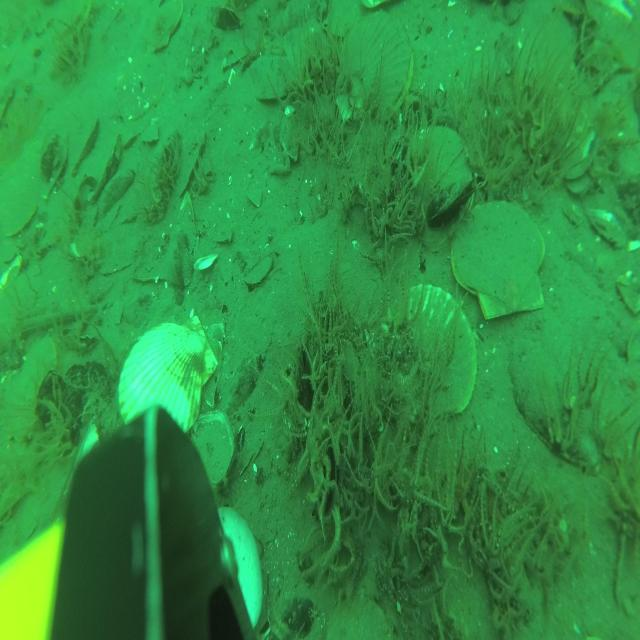scallop: (117, 315, 216, 444), (452, 199, 546, 322), (389, 286, 476, 418), (338, 15, 414, 123), (400, 130, 475, 218), (513, 16, 575, 110), (146, 2, 184, 53), (3, 196, 36, 242)
